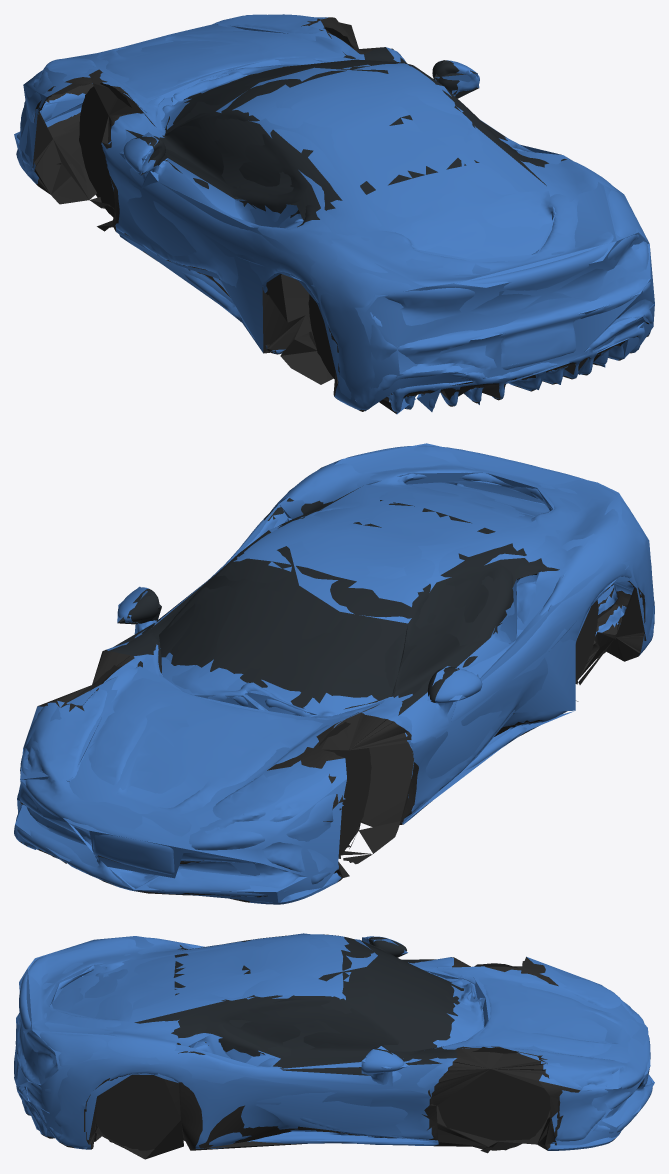
The model's file is ferrari-sf90-spider.glb.
3 views of the same model, one above another, from view 1: azimuth 30°, elevation 25°; view 2: azimuth 150°, elevation 25°; view 3: azimuth 270°, elevation 25° (orthographic). The views are drawn at different scales.
Visible parts, largest first — view 1: body, far; view 2: body, far; view 3: body, far.
Boxes of the visible parts, x1,y1,x2,y2 form: body: (16,14,653,412); far: (14,14,654,414); body: (14,445,654,904); far: (15,443,654,902); body: (14,934,652,1159); far: (14,933,654,1159).
Bounding box in the file's own units: 2.3 × 1.23 × 4.75.
